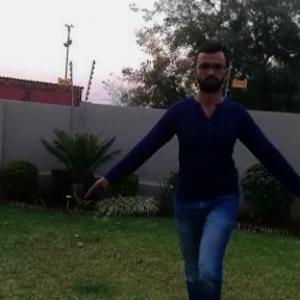land: (127, 66, 299, 299)
